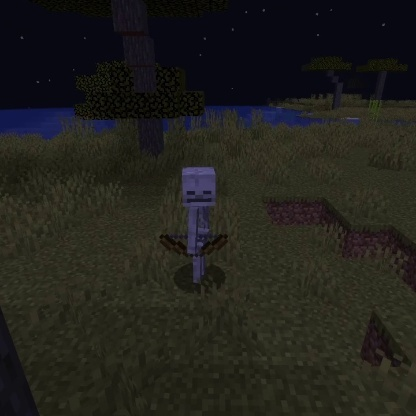skeleton: (156, 162, 232, 287)
